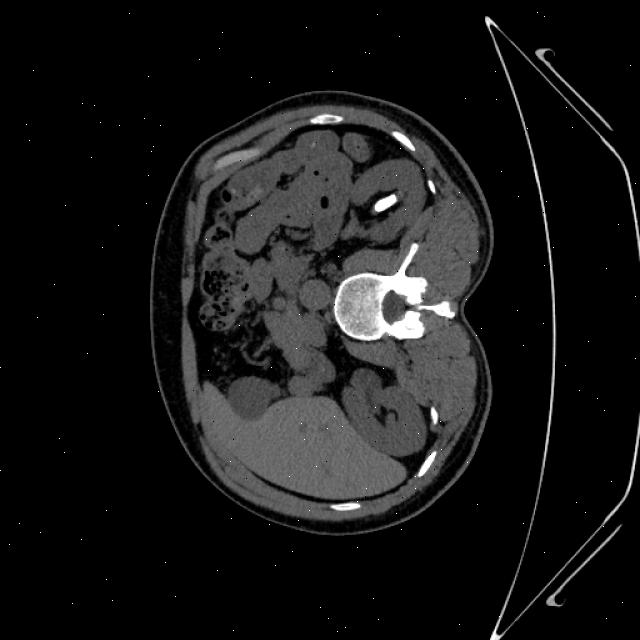kidneystone: (374, 192, 398, 211)
